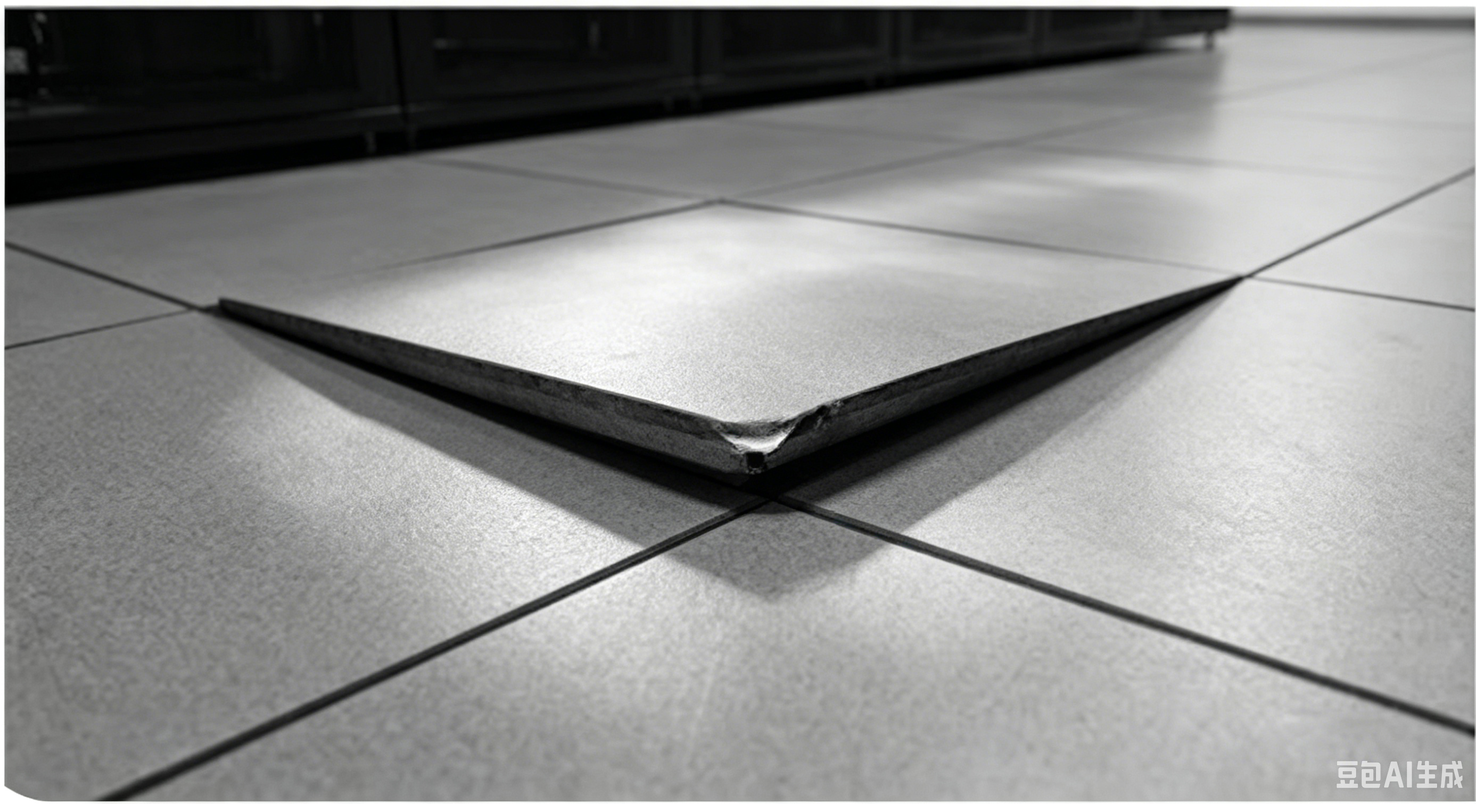floor_defect: (197, 272, 1264, 514)
